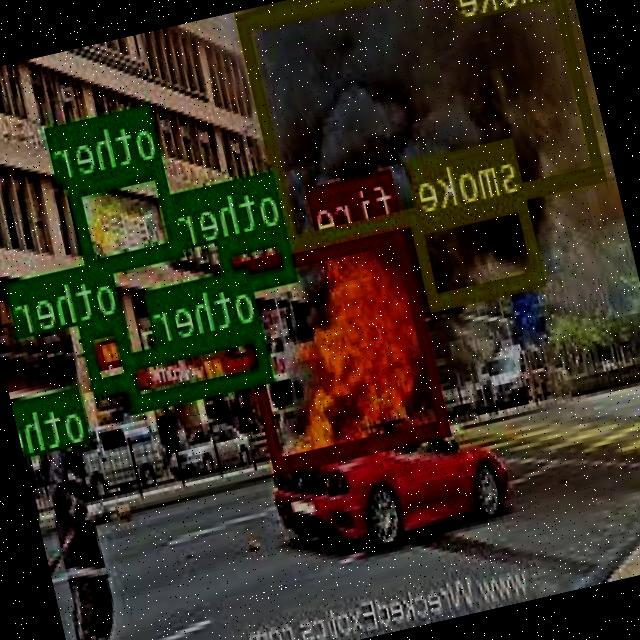fire: (228, 222, 451, 472)
smoke: (237, 0, 606, 248), (412, 190, 546, 306)
